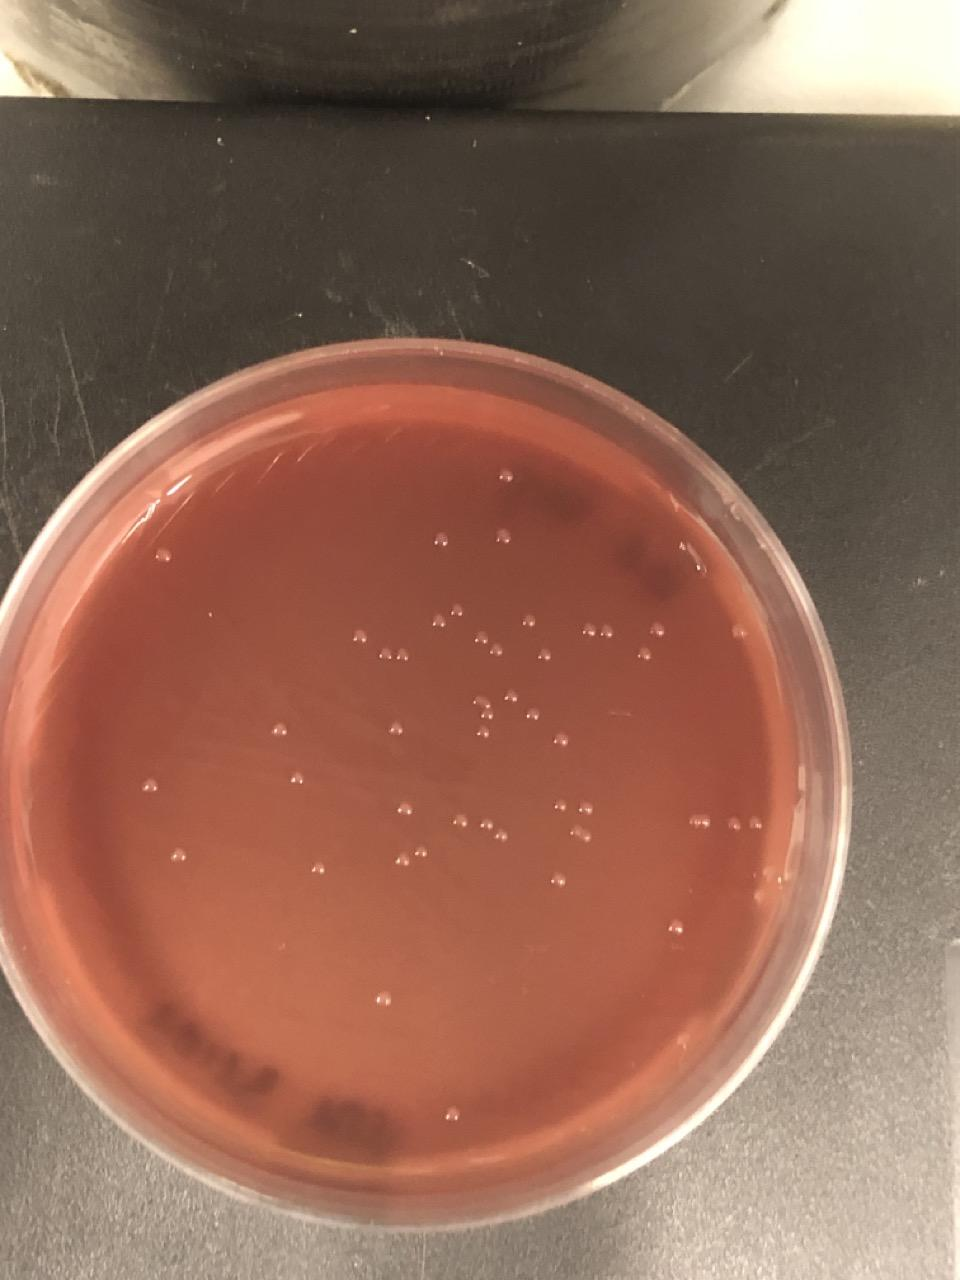pdpiscicida: (430, 602, 464, 630), (581, 621, 616, 642), (376, 645, 412, 665), (473, 694, 496, 723), (576, 797, 594, 816), (387, 720, 405, 739), (444, 1106, 462, 1124), (548, 873, 566, 891), (310, 862, 328, 880), (393, 853, 411, 871), (726, 816, 744, 835), (748, 815, 766, 834), (477, 814, 495, 833), (693, 811, 711, 829), (452, 811, 470, 829), (395, 801, 413, 819), (552, 797, 570, 815), (140, 777, 158, 795), (553, 734, 571, 752), (270, 721, 288, 739), (524, 707, 543, 725), (502, 688, 520, 707), (634, 647, 652, 665), (488, 642, 506, 660), (730, 622, 748, 640), (153, 546, 171, 564), (432, 530, 450, 548), (170, 848, 188, 867), (374, 991, 391, 1009), (667, 920, 684, 938), (413, 842, 431, 860), (574, 827, 592, 845), (493, 825, 510, 844), (288, 769, 306, 787), (536, 646, 554, 664), (649, 622, 667, 640), (520, 613, 537, 631), (494, 527, 511, 545), (497, 469, 514, 487), (473, 725, 489, 743), (473, 629, 489, 646), (352, 629, 368, 646)
